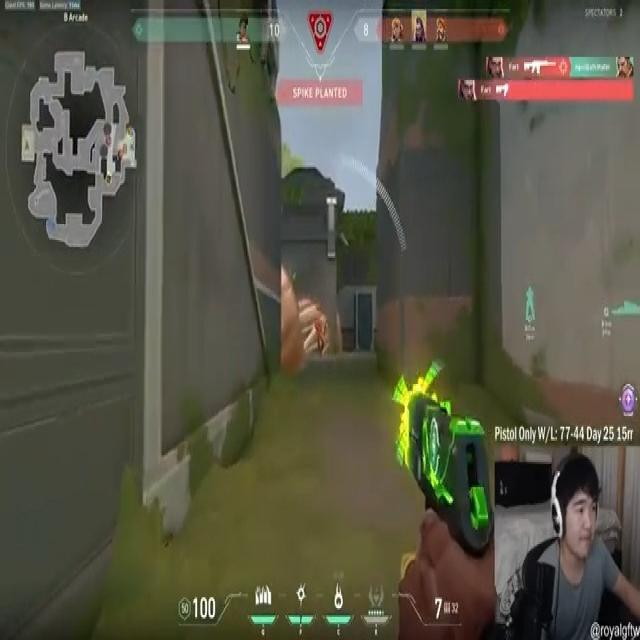ally behind wall: (525, 286, 536, 323)
enemy: (316, 314, 326, 359)
